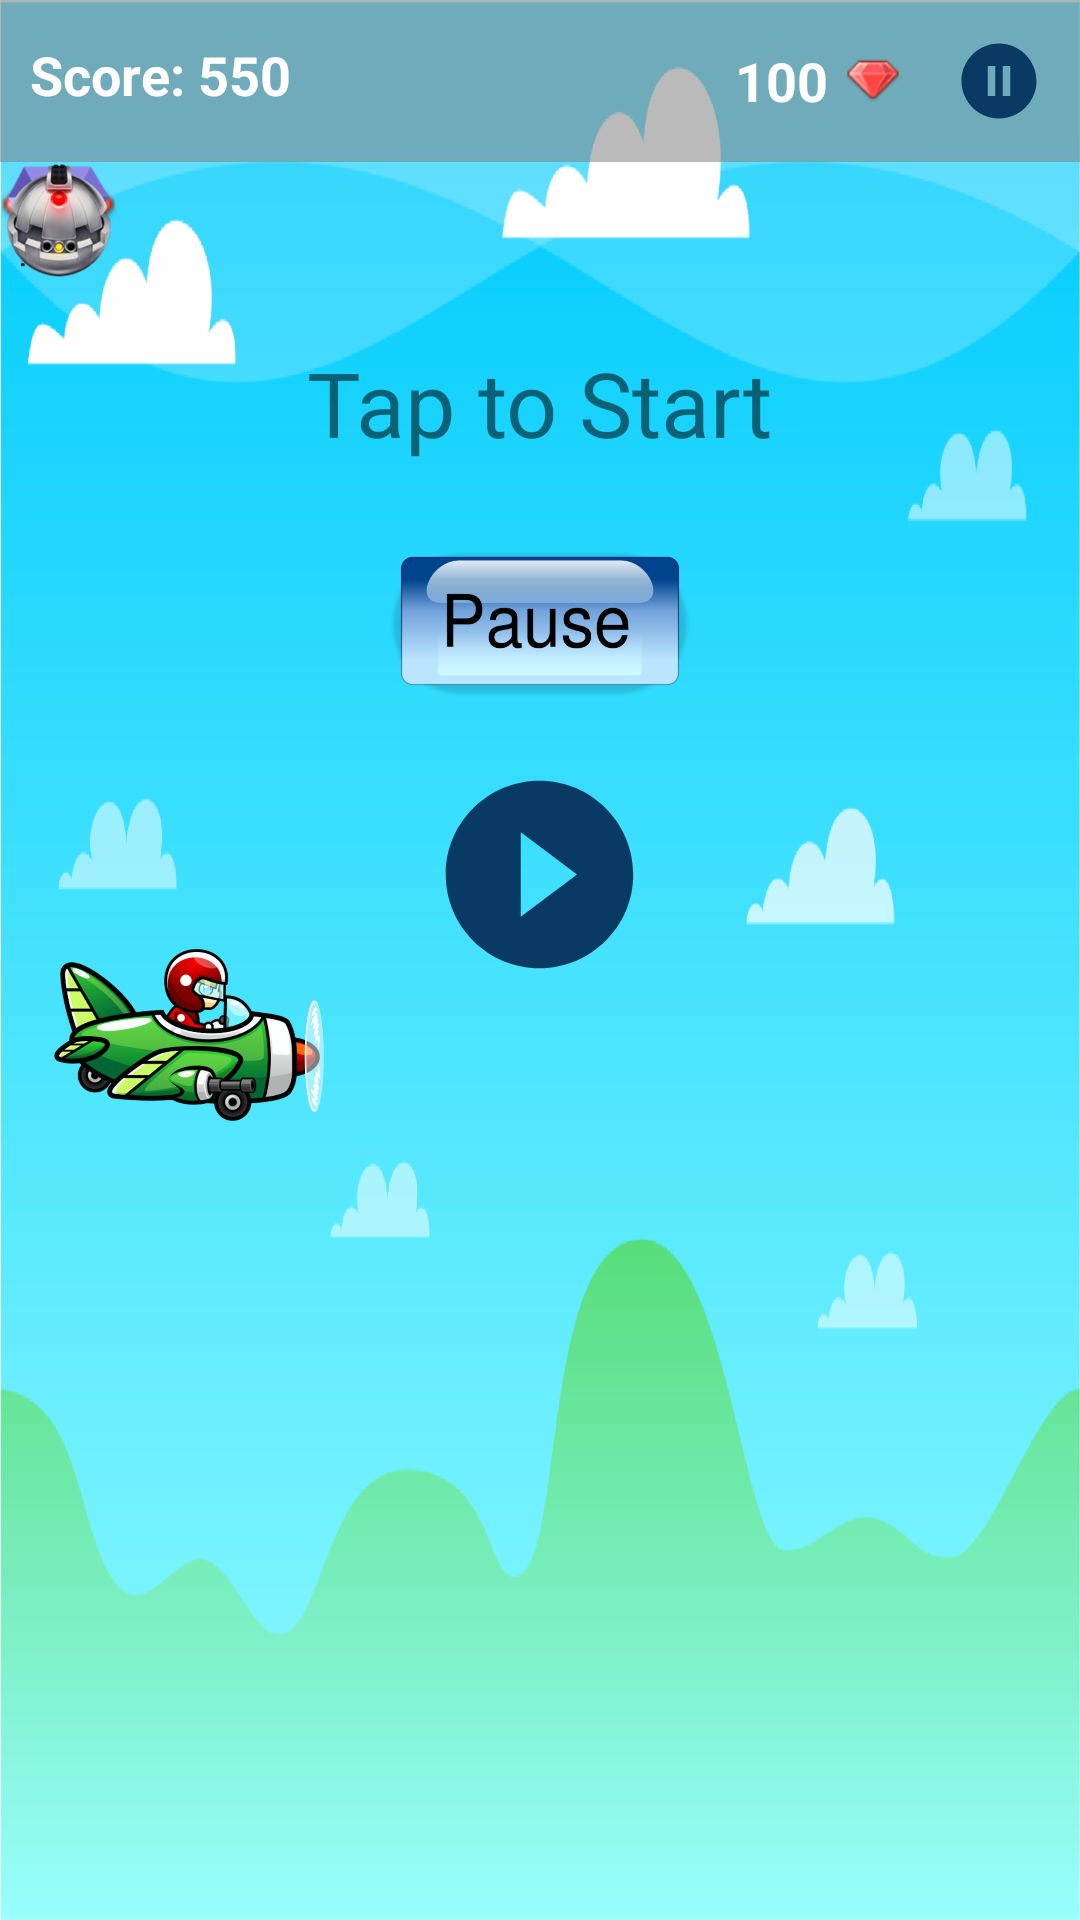

Icons on this 1080×1920 Android screen, each with its box as (x1, y1, x2, y2):
plane: (54, 949, 324, 1121)
start: (445, 780, 634, 969)
